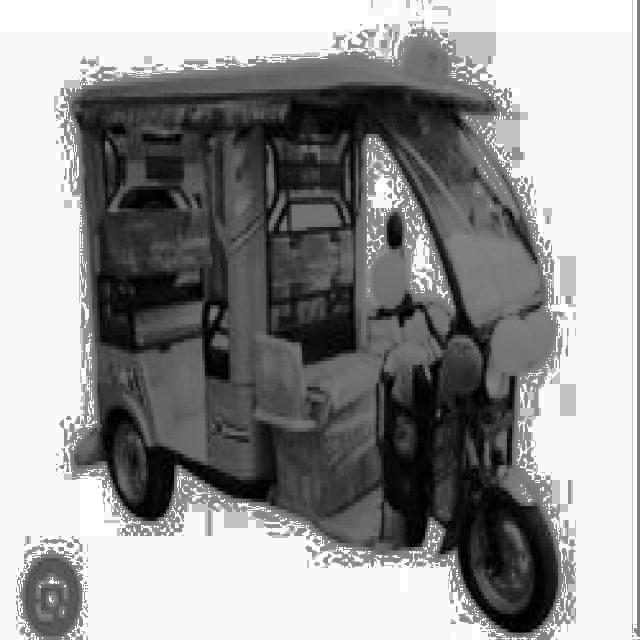Toto: (67, 59, 557, 631)
